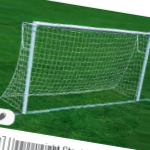goals: (1, 18, 150, 113)
